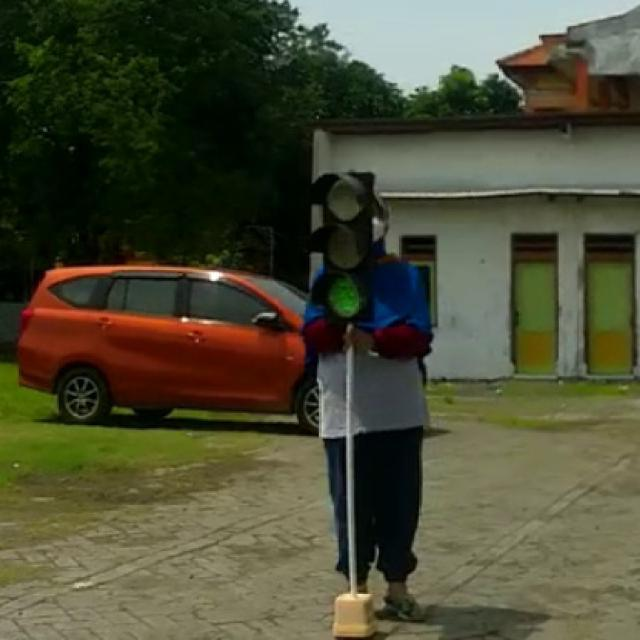green_light: (309, 170, 379, 320)
